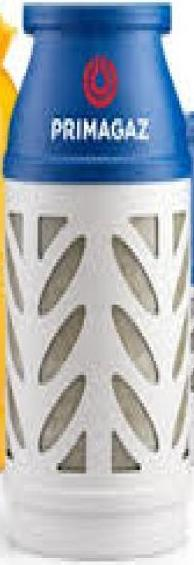cylinder: (0, 1, 194, 565)
